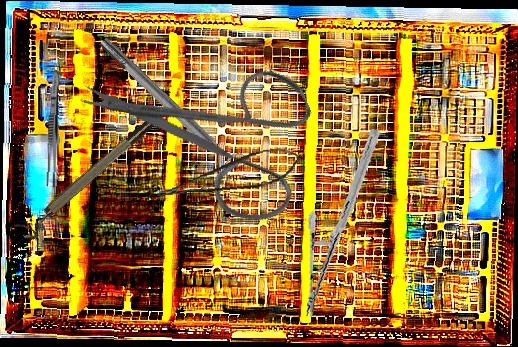Dressing Forceps: (45, 69, 62, 189)
Fixation Ring: (92, 28, 251, 183), (14, 113, 164, 245)
Iris Scissors: (75, 9, 343, 269)
Micro Scissor: (154, 143, 303, 203)
Needle Holder: (276, 127, 408, 319)
